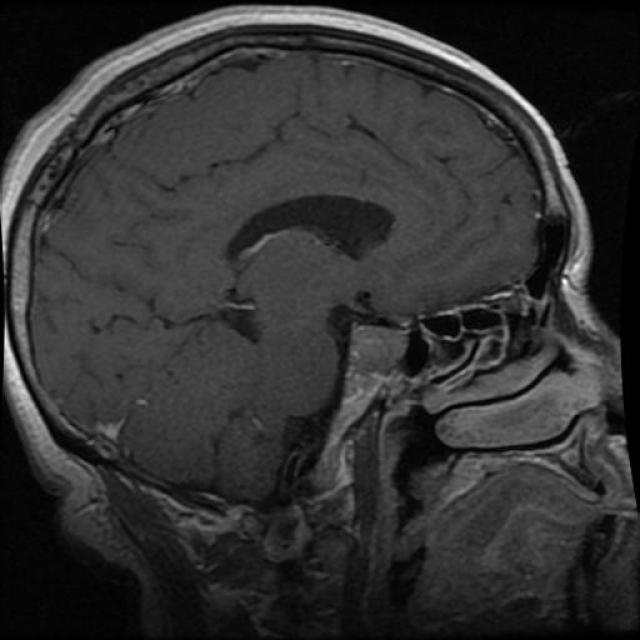pituitary: (319, 289, 422, 390)
